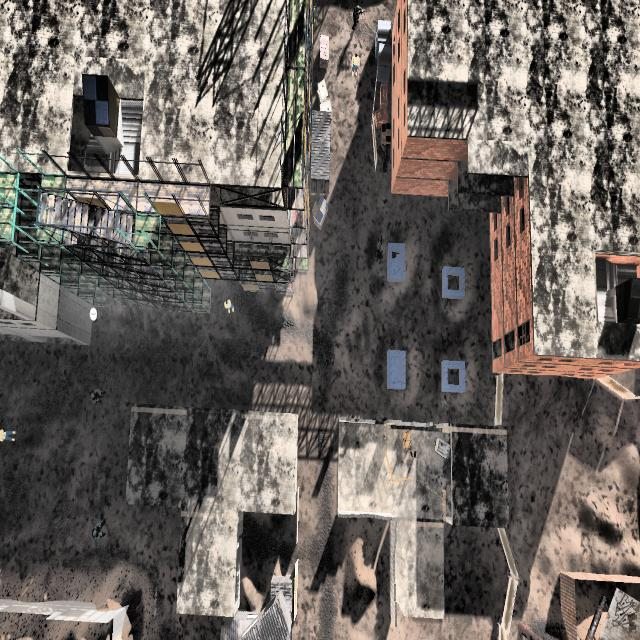bad: (86, 370, 105, 415), (89, 513, 109, 547), (346, 0, 366, 32), (373, 231, 387, 269)
good: (0, 415, 17, 453), (348, 46, 361, 81), (221, 289, 235, 320)
